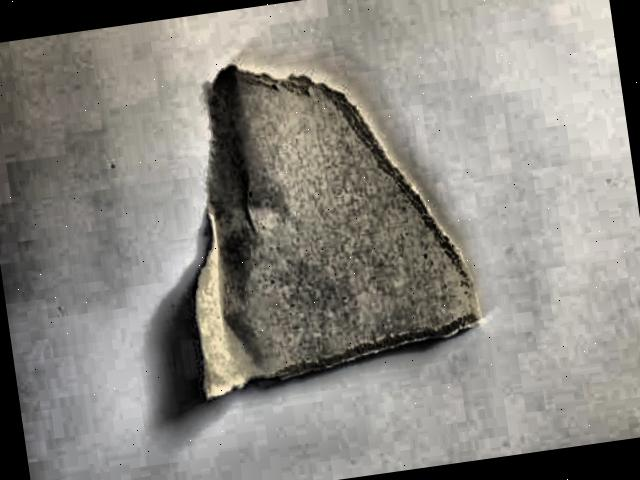Paper: (103, 18, 506, 437)
